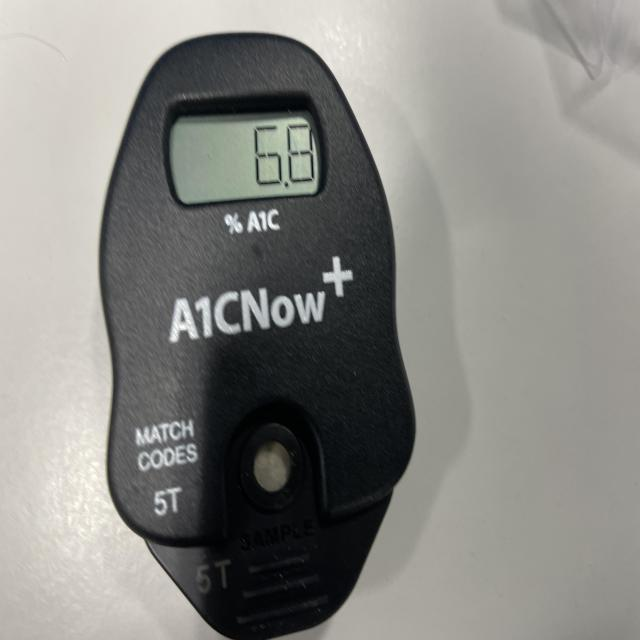hba1c: (97, 32, 417, 640)
